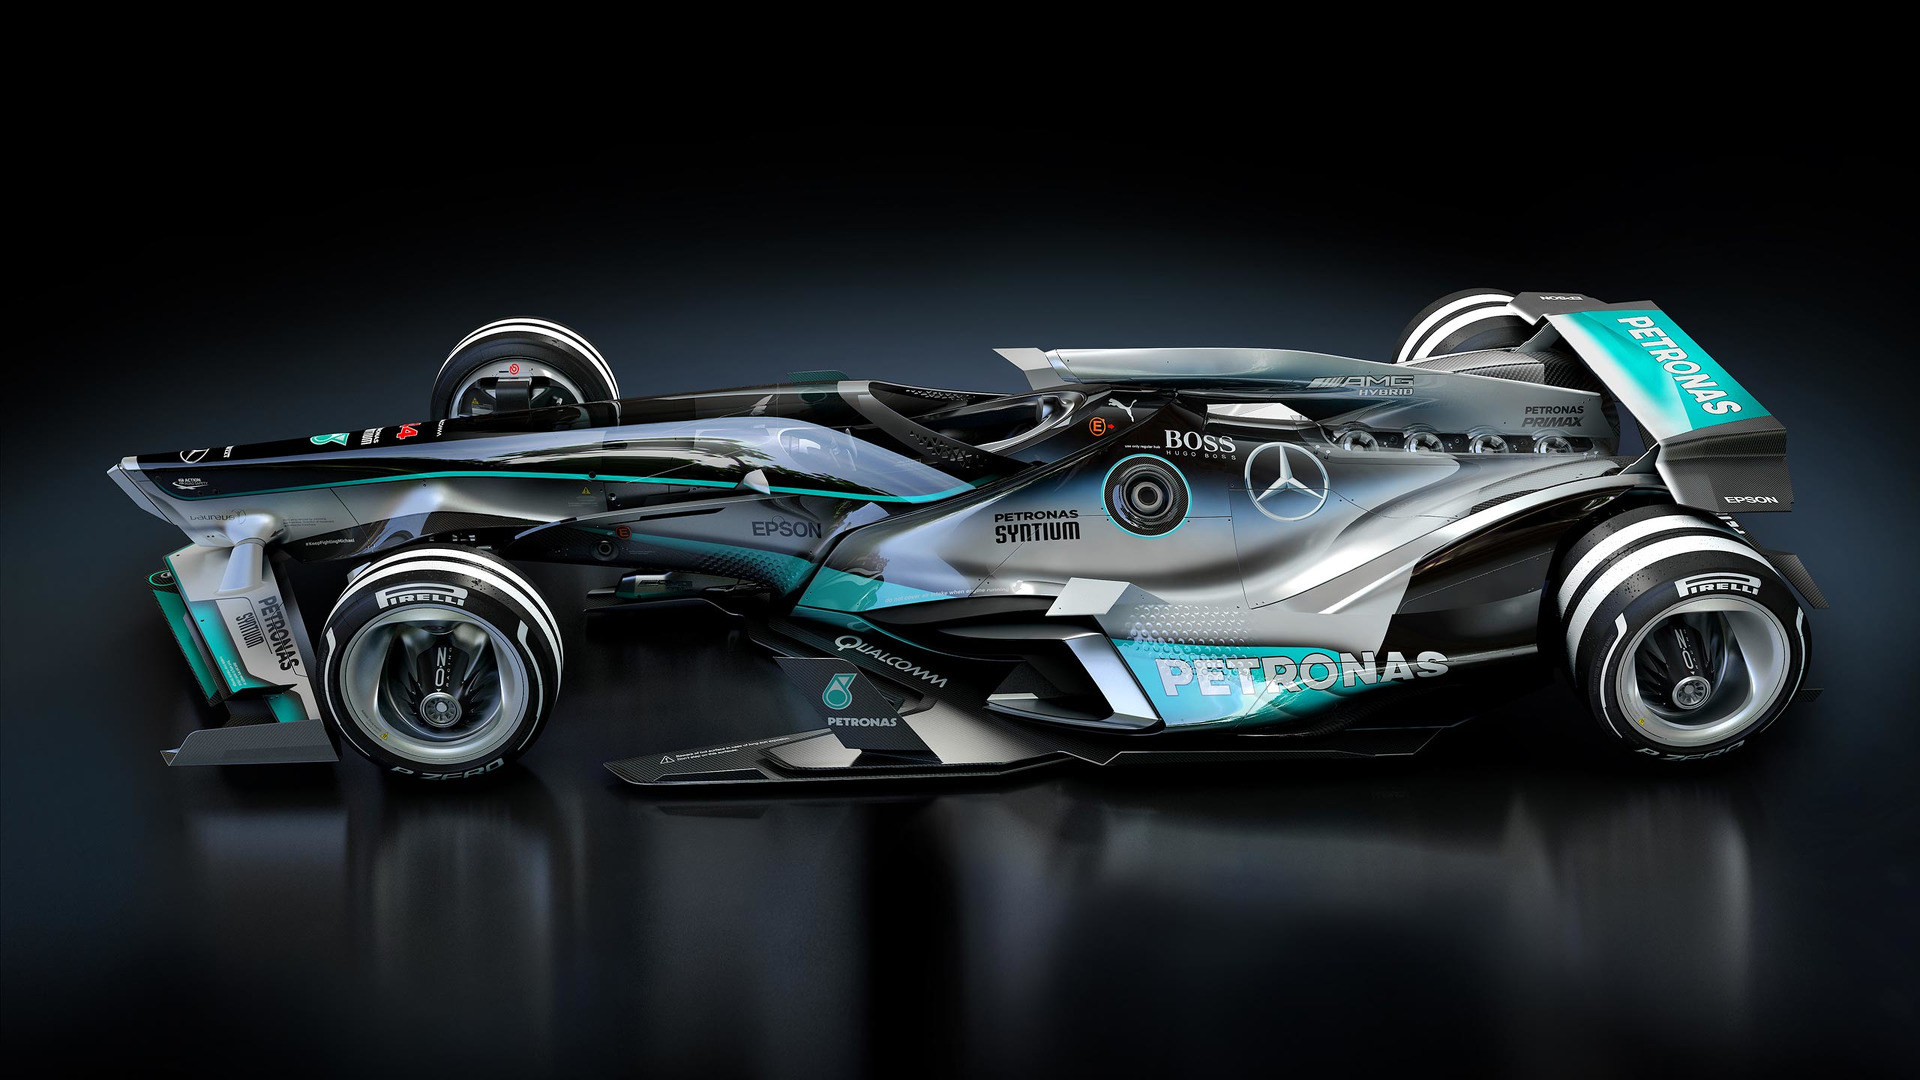f1_car: (94, 240, 1851, 815)
